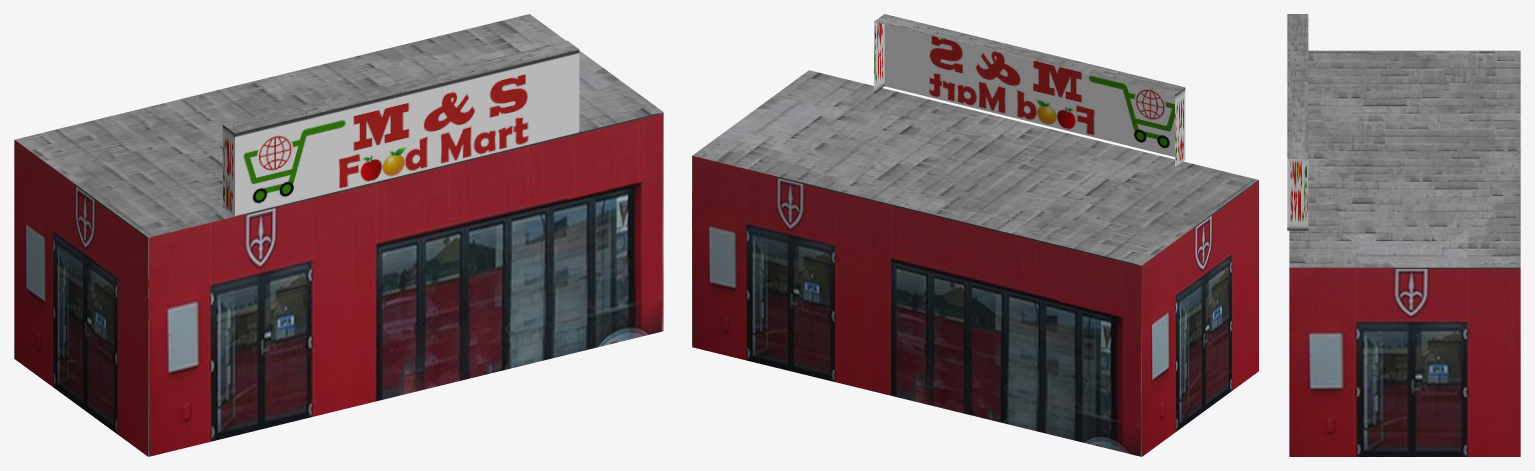
File: SHOP4.fbx
3 views of the same model, side by side, from view 1: azimuth 30°, elevation 25°; view 2: azimuth 150°, elevation 25°; view 3: azimuth 270°, elevation 25° (orthographic). The views are drawn at different scales.
Visible parts, largest first — view 1: polySurface6; view 2: polySurface6; view 3: polySurface6.
Part boxes in pixels (x1=…): polySurface6: x1=14, y1=14, x2=663, y2=456; polySurface6: x1=692, y1=14, x2=1258, y2=456; polySurface6: x1=1287, y1=14, x2=1520, y2=456.
Size of the model in its own units: 8.84 by 4.98 by 4.02.
1 material, 1 textured.
